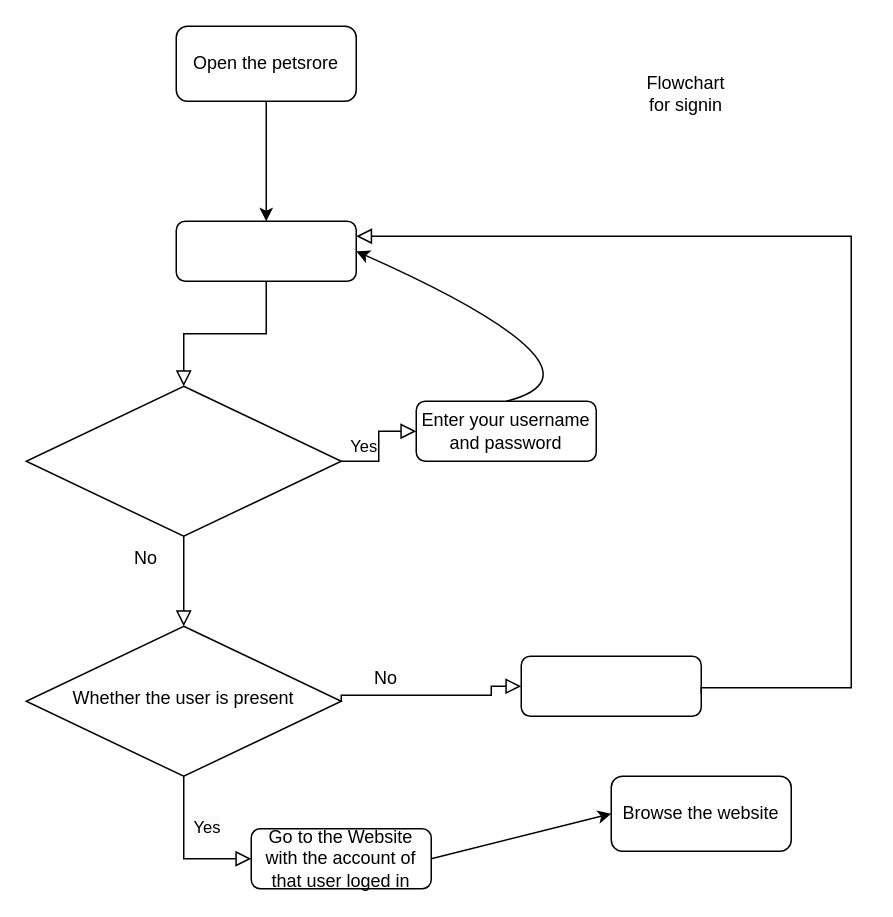
The diagram is 893 pixels wide and 917 high, and some of its shapes have lost their labels. Here are the shapes that lost their labels. From the top down, the box of each, then its label:
(175, 220, 356, 281): Signin
(25, 385, 341, 536): username or password is empty
(520, 655, 701, 716): user Registeration
